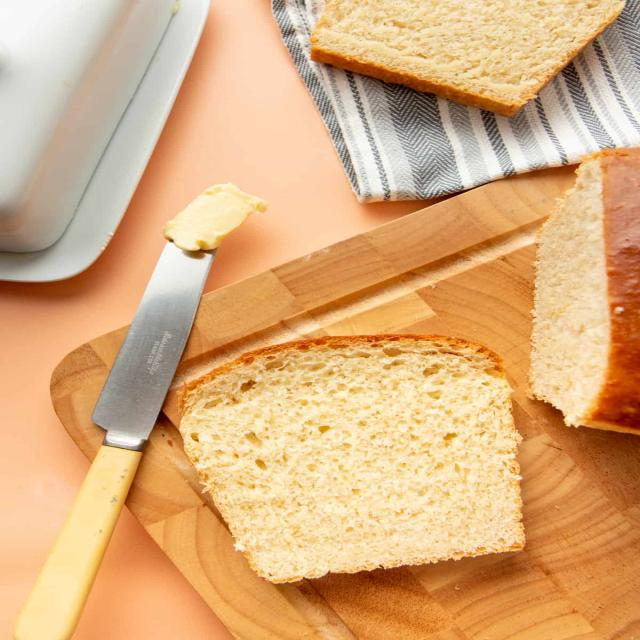Bread: (180, 335, 525, 582), (309, 0, 624, 116), (531, 148, 639, 434)
